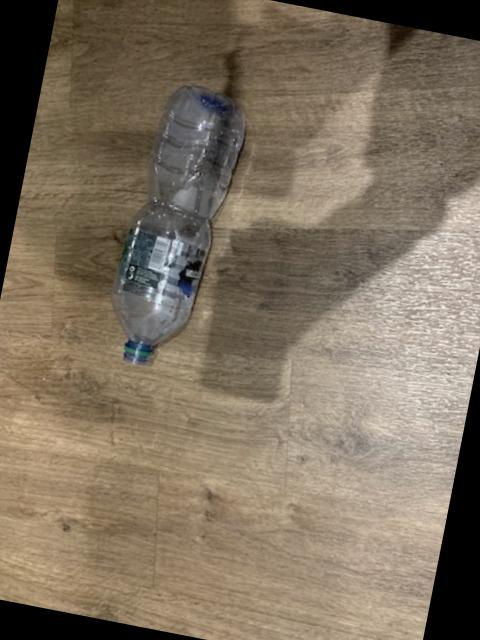plastic: (110, 88, 242, 366)
